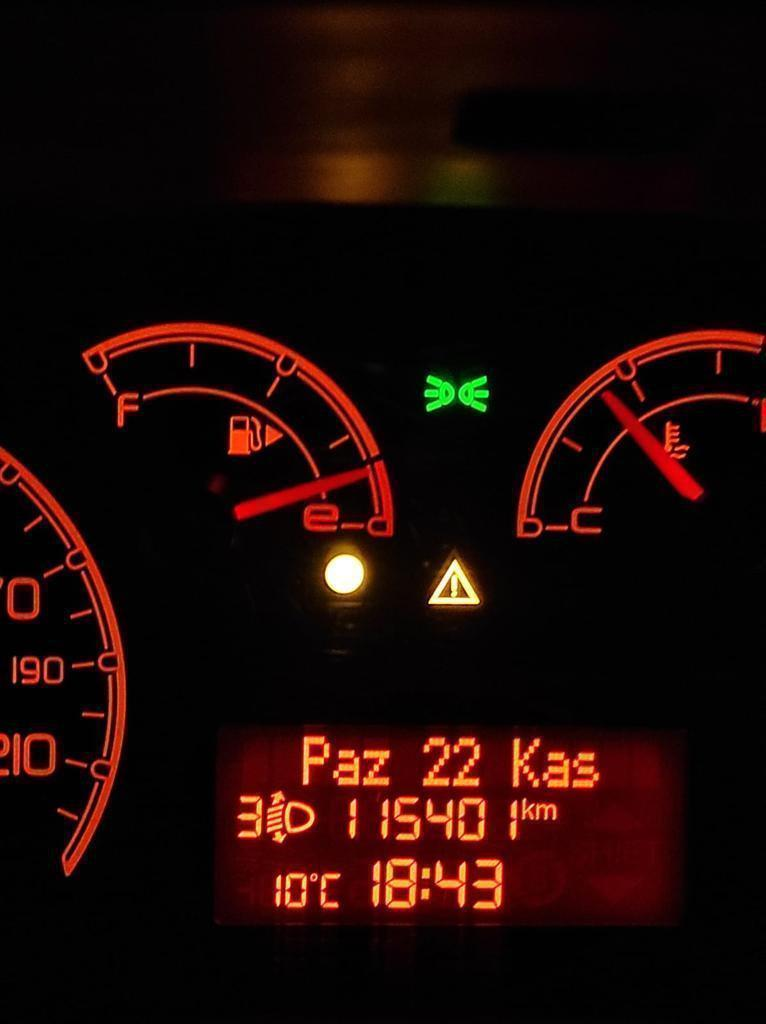0: (456, 796, 488, 843), (285, 871, 308, 909)
1: (346, 797, 359, 840), (370, 859, 381, 907), (507, 798, 519, 841), (378, 796, 389, 839), (274, 873, 283, 908)
2: (449, 733, 483, 787), (419, 734, 451, 787)
3: (470, 856, 505, 911), (235, 793, 264, 839)
4: (434, 859, 467, 909), (424, 796, 455, 842)
5: (392, 794, 422, 841)
8: (385, 856, 419, 909)
X: (509, 736, 542, 788), (301, 734, 332, 786), (360, 747, 392, 786), (542, 749, 572, 790), (570, 749, 600, 790), (332, 748, 361, 786), (318, 871, 342, 911), (534, 801, 558, 821), (419, 864, 432, 900), (521, 797, 534, 820)
odometer: (211, 714, 697, 934)
